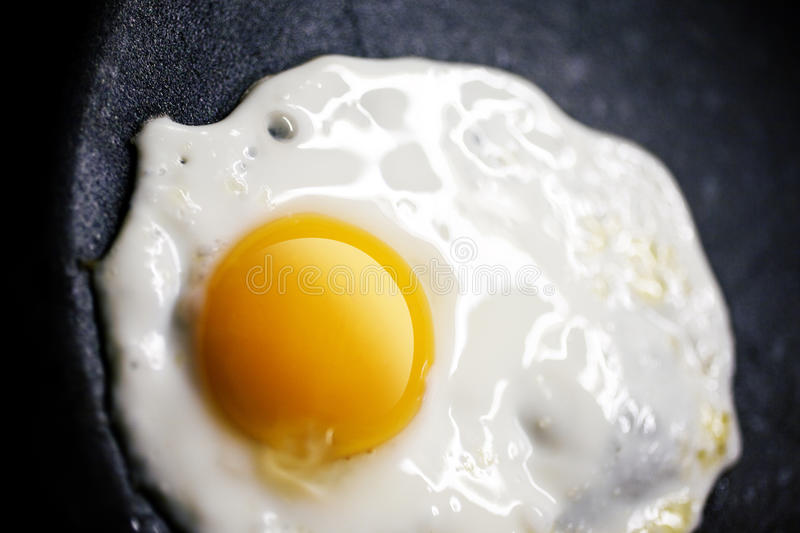fried egg: (156, 128, 660, 518)
